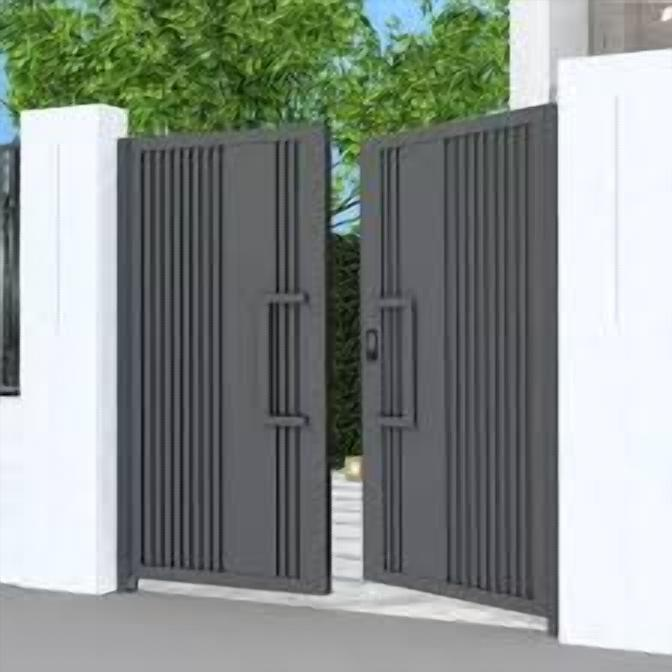Gate: (118, 103, 558, 618)
